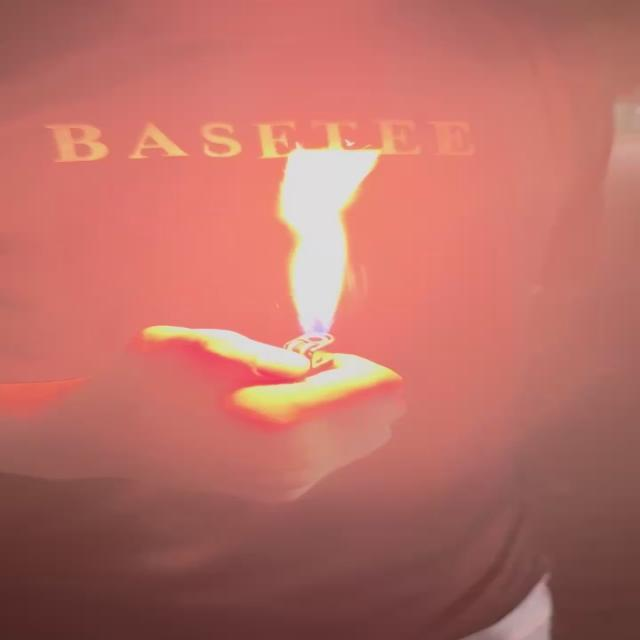Fire: (281, 146, 384, 342)
